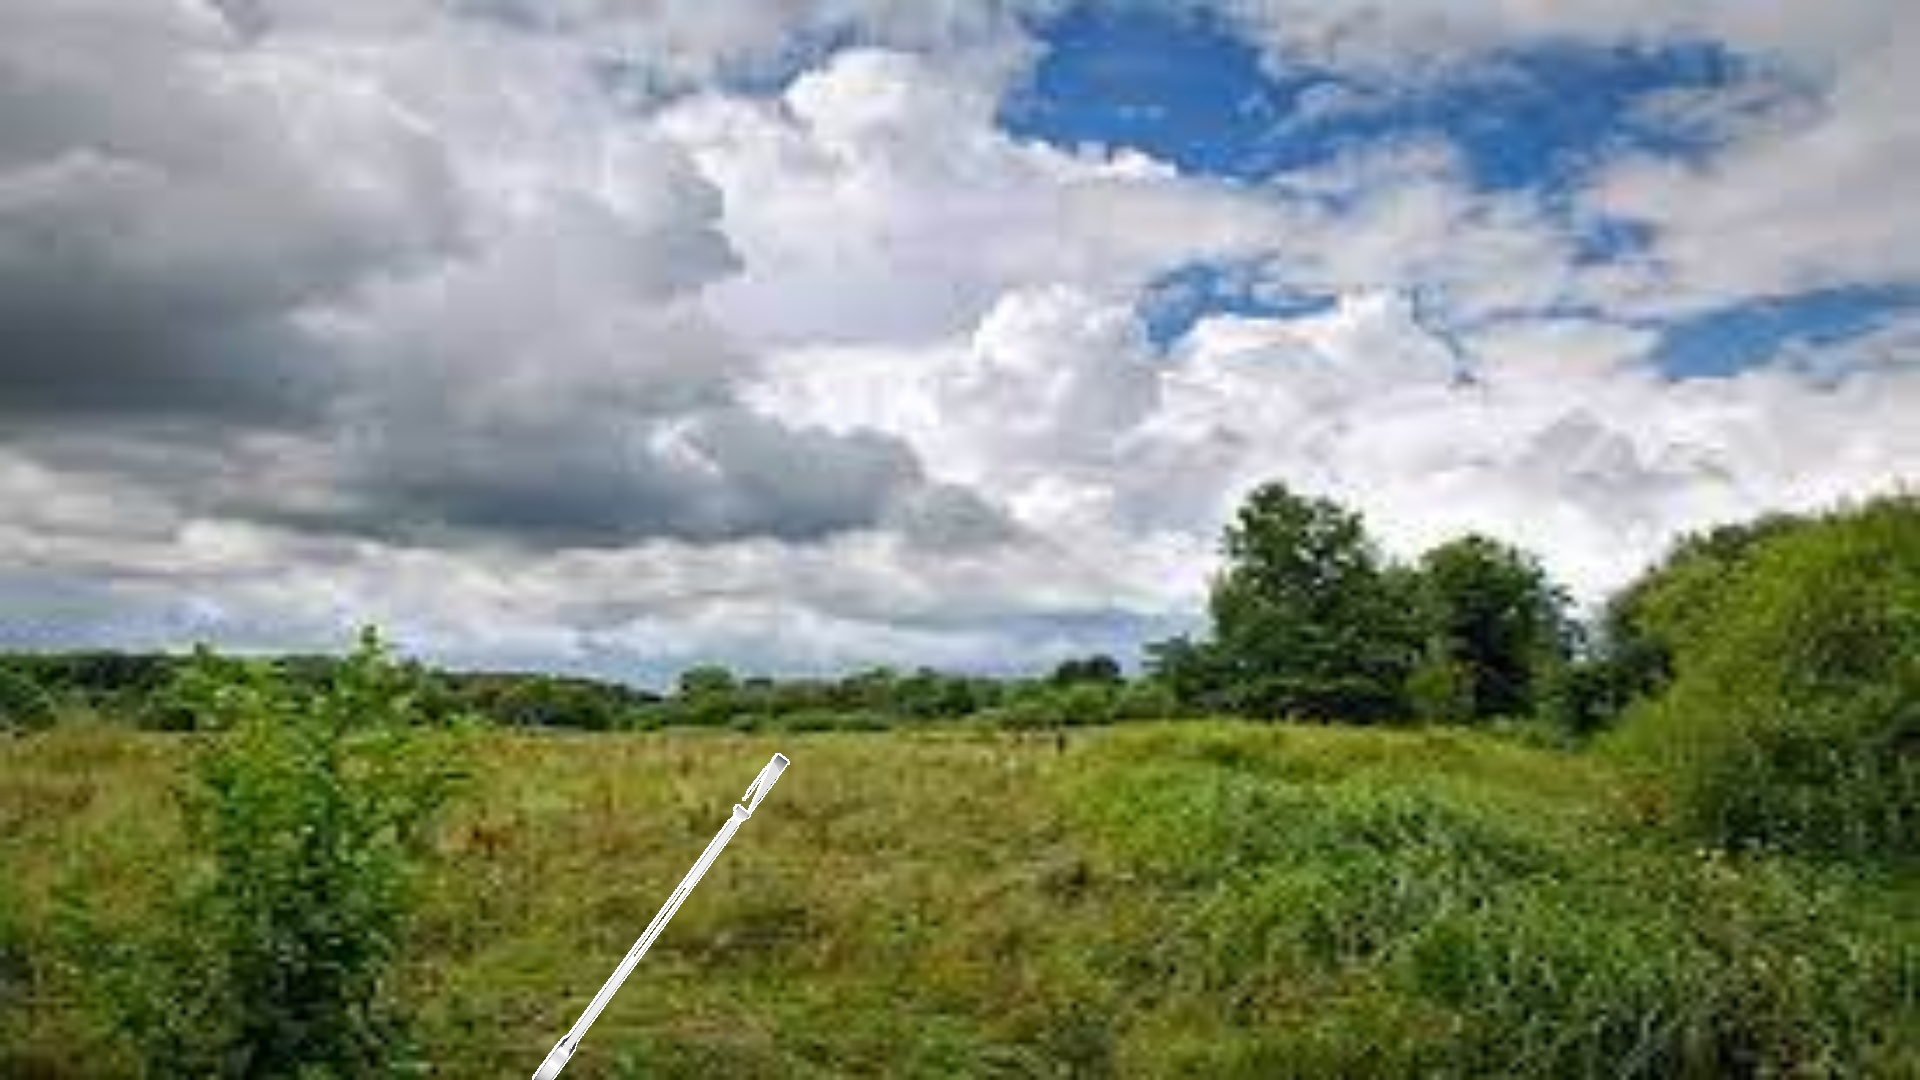Mixed Key: (531, 753, 789, 1079)
